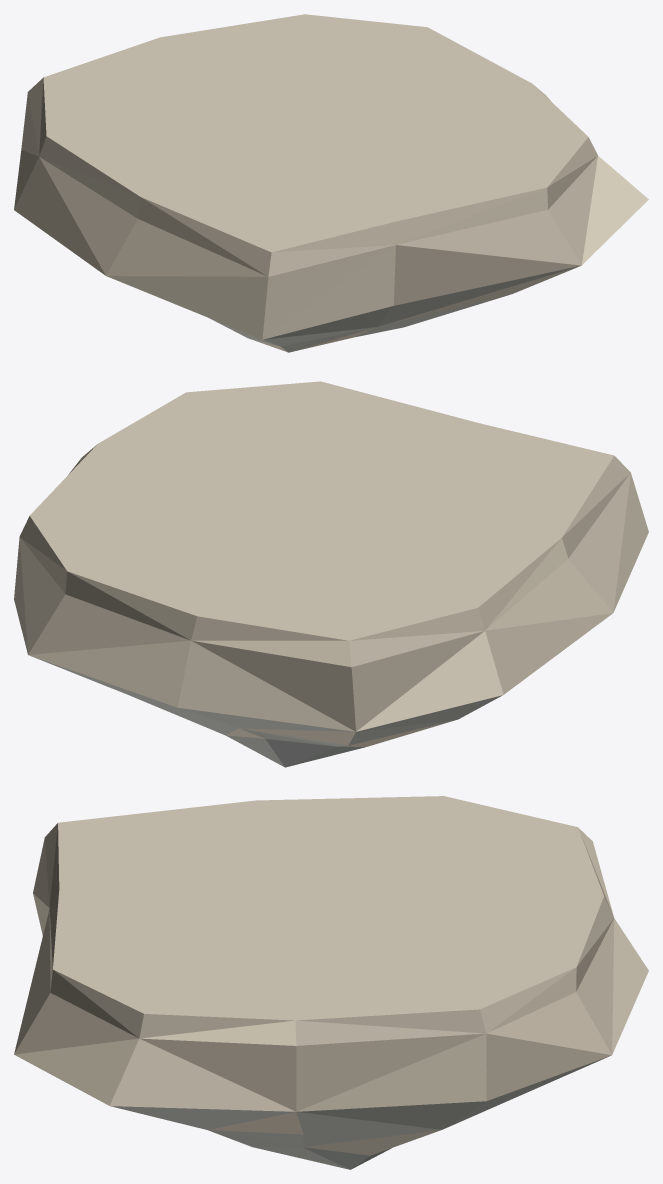
File: Plataforma5.fbx
The picture shows the model from 3 angles, top to bottom: view 1: azimuth 30°, elevation 25°; view 2: azimuth 150°, elevation 25°; view 3: azimuth 270°, elevation 25°; orthographic projection. The views are drawn at different scales.
Visible parts, largest first — view 1: PlataformaPedra_05; view 2: PlataformaPedra_05; view 3: PlataformaPedra_05.
Part boxes in pixels (x1,y1,x2,y2): PlataformaPedra_05: (14,14,648,352); PlataformaPedra_05: (14,381,648,767); PlataformaPedra_05: (14,796,648,1169).
Size of the model in its own units: 744 by 342 by 770.
